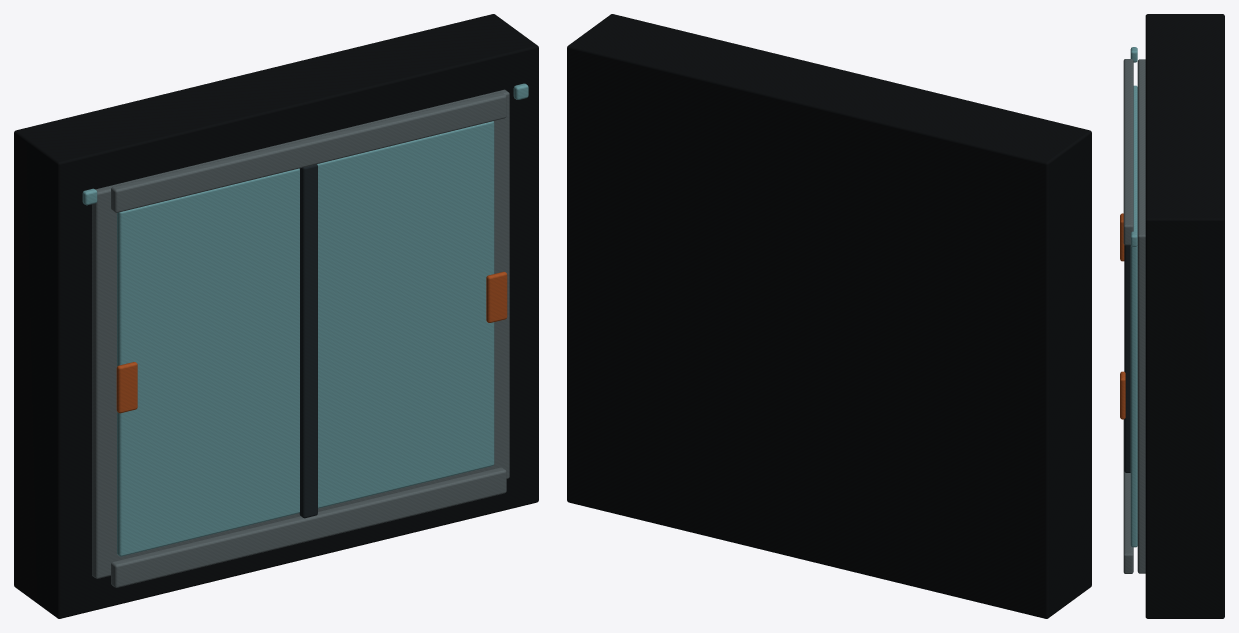
File: ObservationWindow.fbx
The picture shows the model from 3 angles, left to right: view 1: azimuth 30°, elevation 25°; view 2: azimuth 150°, elevation 25°; view 3: azimuth 270°, elevation 25°; orthographic projection. The views are drawn at different scales.
Visible parts, largest first — view 1: ObservationWindow_Mesh; view 2: ObservationWindow_Mesh; view 3: ObservationWindow_Mesh.
Part boxes in pixels (x1,y1,x2,y2): ObservationWindow_Mesh: [14, 14, 538, 618]; ObservationWindow_Mesh: [567, 14, 1091, 618]; ObservationWindow_Mesh: [1120, 14, 1224, 618].
Size of the model in its own units: 172 by 156 by 37.
Materials: 5 (5 with a texture image).
